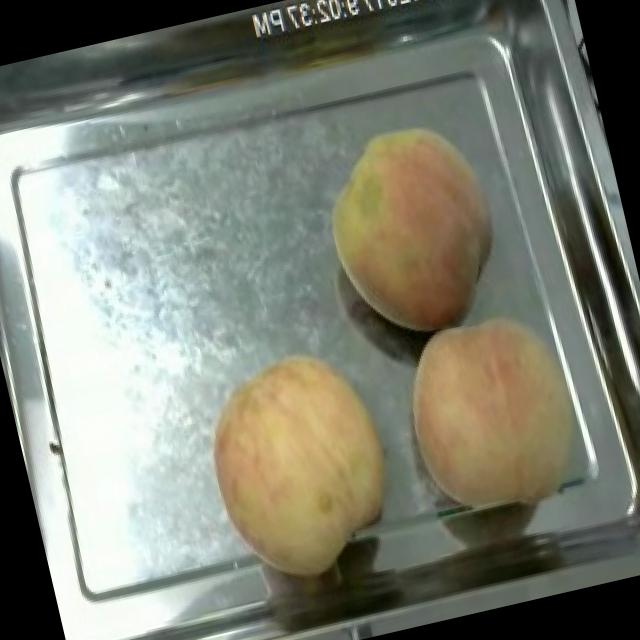Fruit: (180, 326, 420, 600), (381, 284, 614, 534), (302, 101, 524, 352)
